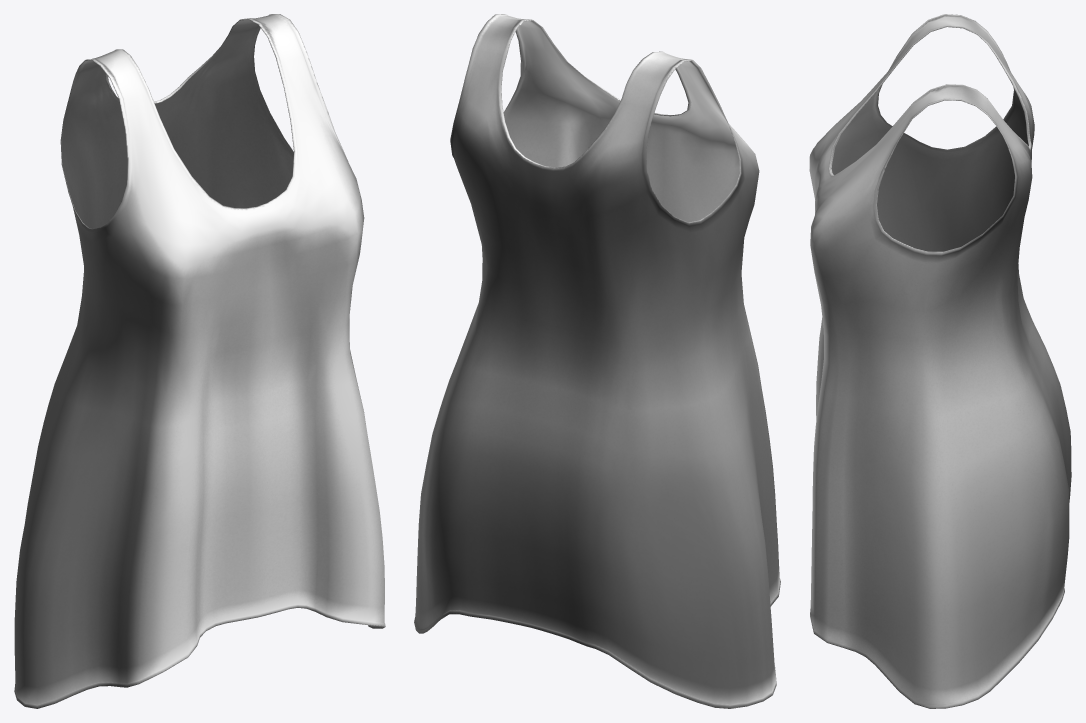
File: TeeUnrigged3.obj
The picture shows the model from 3 angles, left to right: view 1: azimuth 30°, elevation 25°; view 2: azimuth 150°, elevation 25°; view 3: azimuth 270°, elevation 25°; orthographic projection. The views are drawn at different scales.
Visible parts, largest first — view 1: Tee_S; view 2: Tee_S; view 3: Tee_S.
Part boxes in pixels (<box>): Tee_S: <box>14,14,385,708</box>; Tee_S: <box>414,14,780,708</box>; Tee_S: <box>809,14,1071,708</box>.
Bounding box in the file's own units: 0.4548 × 0.7677 × 0.3169.
1 material, 1 textured.
